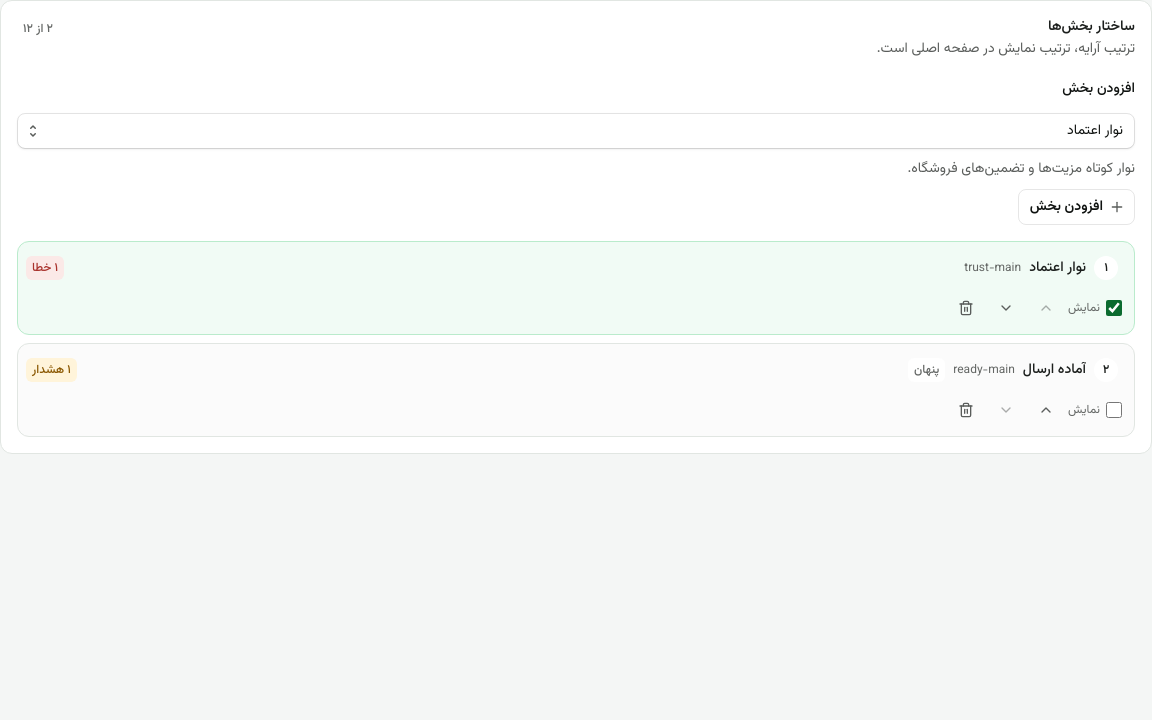
Test: HomepageSectionOutline (SS-276) › adds an allowed type and reports callback errors
The width and height of the screenshot is (1152, 720).
Click the button "افزودن بخش".
click(1076, 207)  # box [1018, 189, 1135, 225]
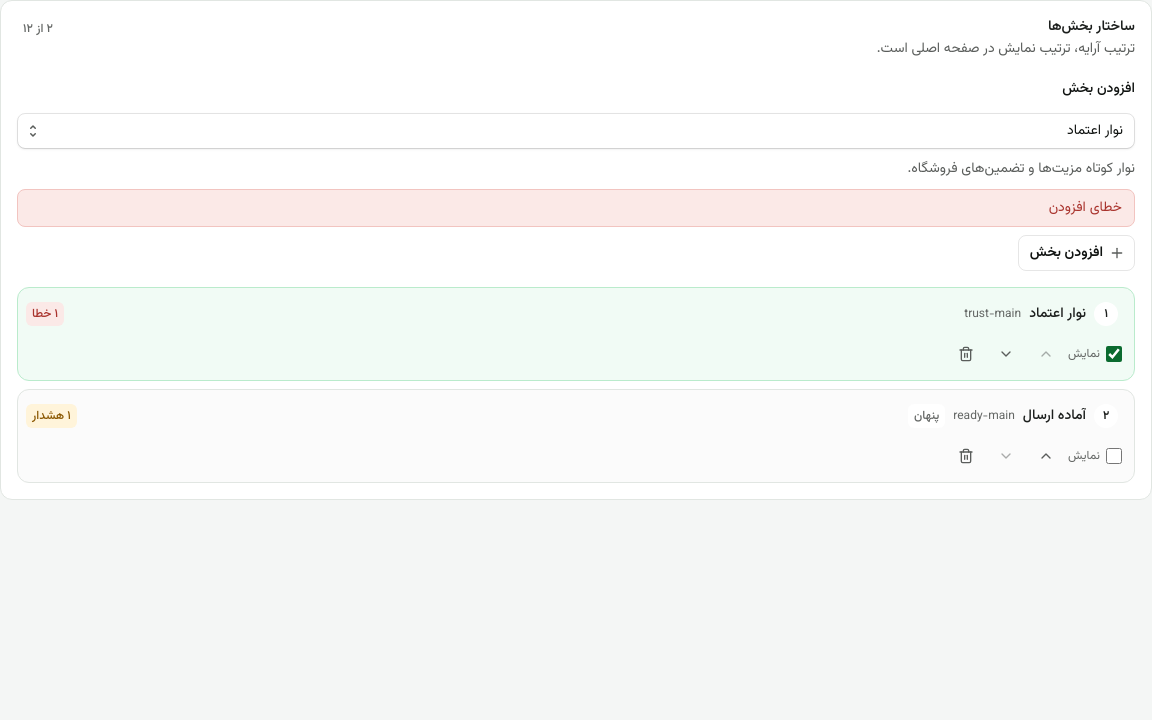
Now the text "خطای افزودن" is shown, box [17, 189, 1135, 227]
